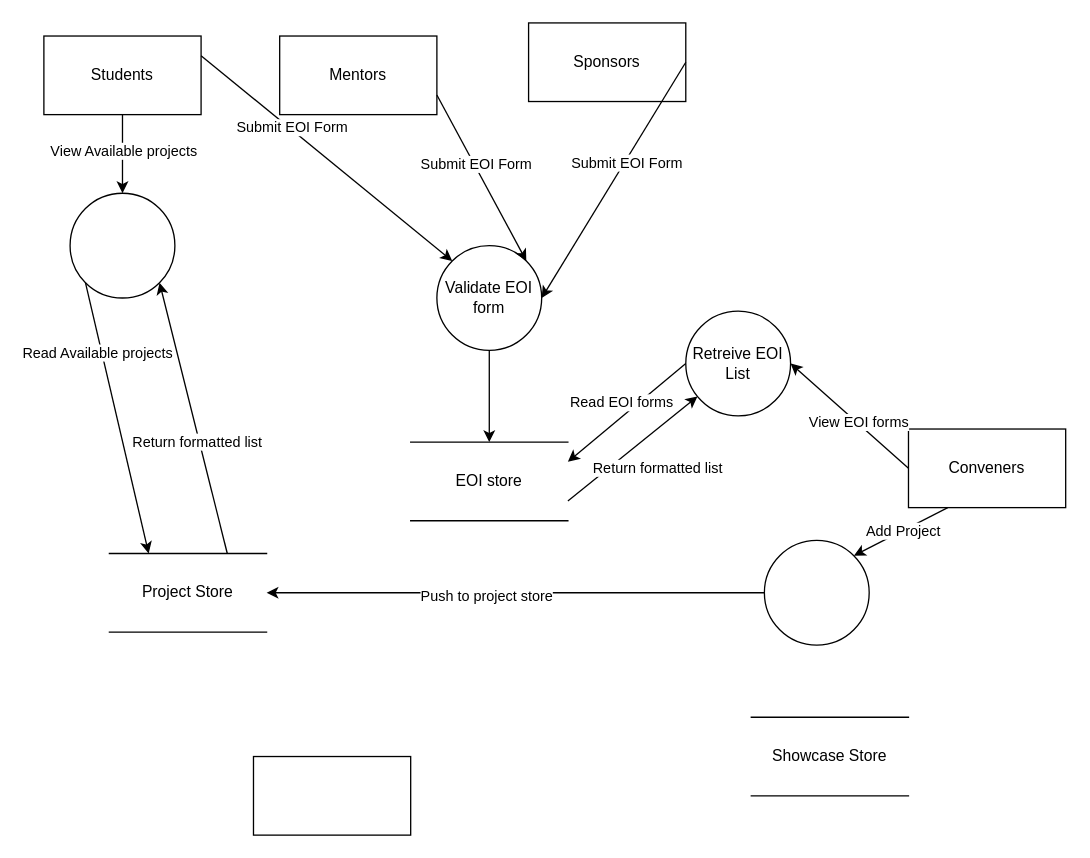
Image size: 1090x858. Some labels were removed from this diagram. Here are the shapes that lost their labels. From the top down, the centre of each, then its label:
At (x=122, y=245): "Retrieve available project".
At (x=816, y=592): "Validate Project fields".
At (x=331, y=795): "External Viewer".
